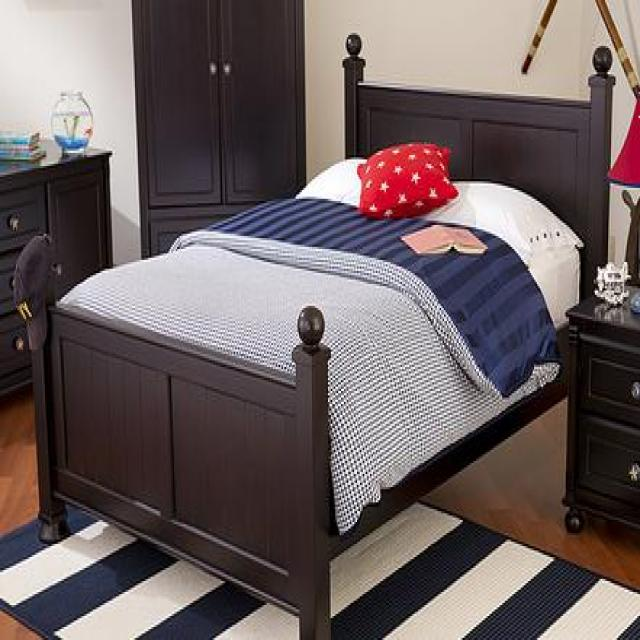bed: (14, 35, 620, 640)
